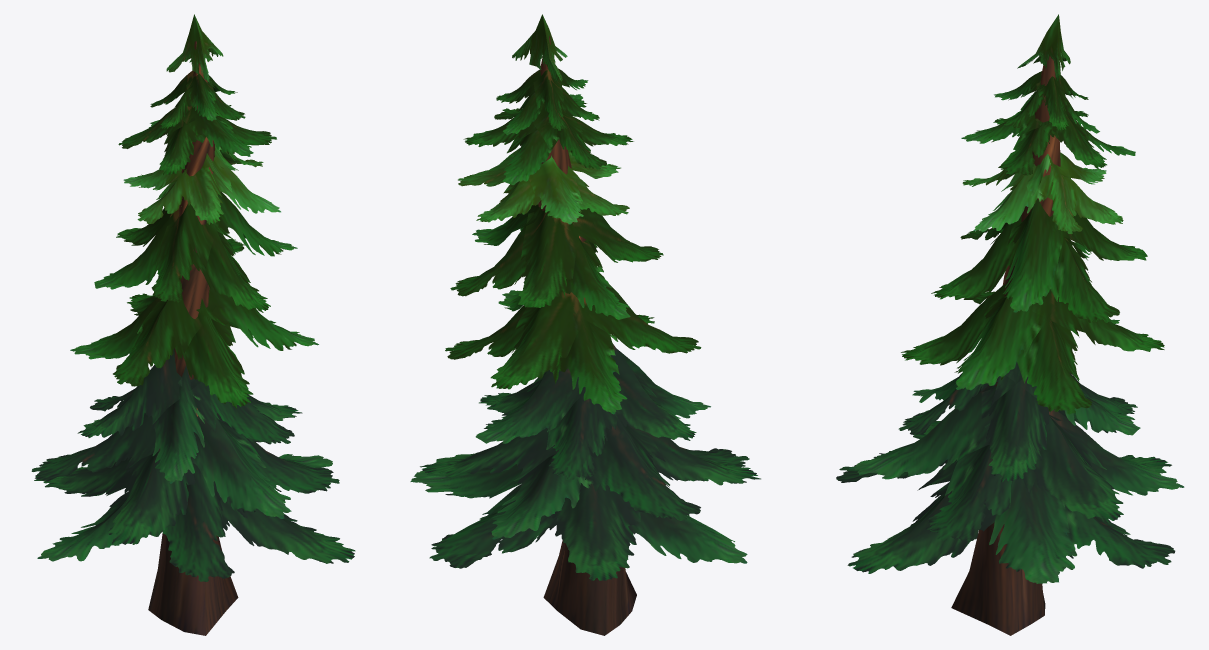
Rendered from spruce_3.FBX.
3 views of the same model, side by side, from view 1: azimuth 30°, elevation 25°; view 2: azimuth 150°, elevation 25°; view 3: azimuth 270°, elevation 25° (orthographic). The views are drawn at different scales.
Visible parts, largest first — view 1: spruce_3; view 2: spruce_3; view 3: spruce_3.
Boxes of the visible parts, box(x1,y1,x2,y2) form: spruce_3: box(31, 14, 355, 635); spruce_3: box(410, 14, 760, 635); spruce_3: box(836, 14, 1184, 635).
Bounding box in the file's own units: 148 × 260 × 146.
